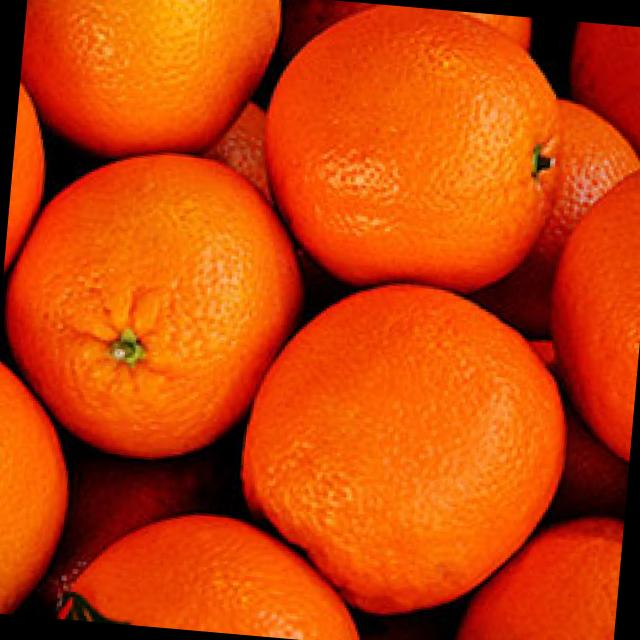orange: (234, 258, 575, 640), (0, 128, 347, 476), (248, 0, 544, 309), (14, 0, 310, 174), (47, 489, 369, 640)
